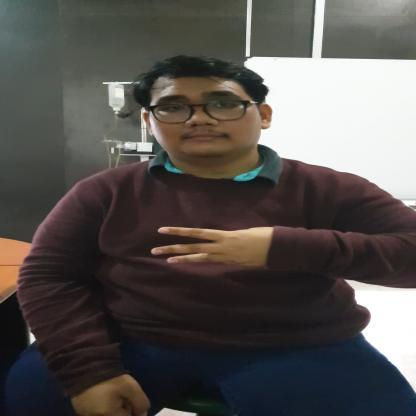E: (150, 225, 273, 268)
